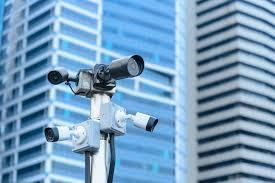tutu: (107, 53, 148, 81), (129, 110, 162, 135), (45, 68, 71, 88), (43, 125, 70, 144)
